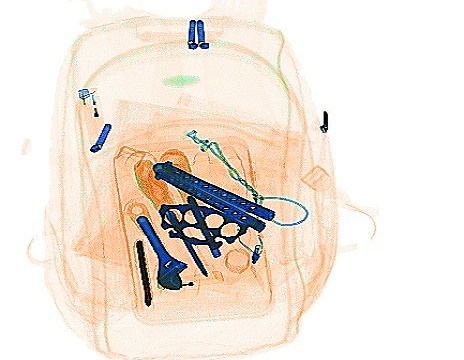knife: (146, 157, 273, 235)
lighter: (76, 84, 108, 145), (153, 270, 225, 290)
